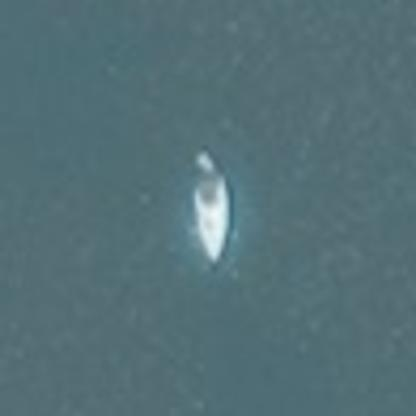ship: (172, 144, 245, 274)
